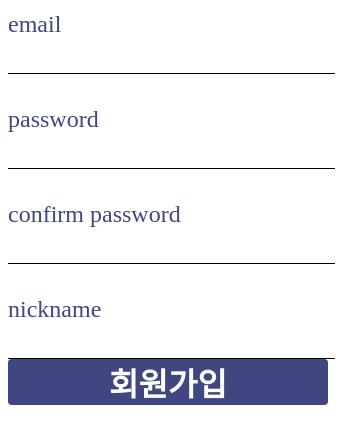
it: Component/Organism/SignupForm › 비밀번호확인과 다를 경우
Type "qkrdmstlr3@naver.com" into the field labelled "email" at (172, 56), box top-left (8, 38), bottom-right (335, 74)
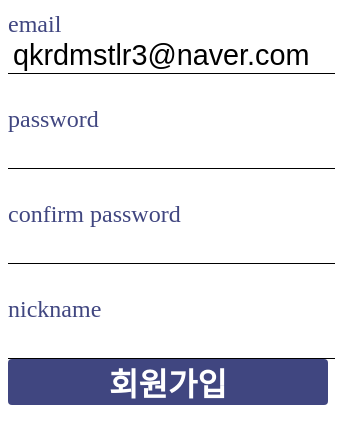
Type "shellboy" into the field labelled "nickname" at (172, 341), box top-left (8, 323), bottom-right (335, 359)
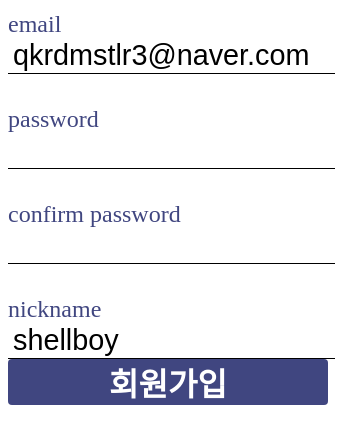
Type "1q2w3e4r" into the password field labelled "password" at (172, 151), box top-left (8, 133), bottom-right (335, 169)
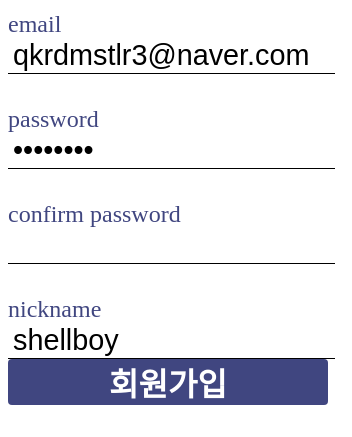
Type "4r3e2w1q" into the password field named "confirmPassword" at (172, 246), box top-left (8, 228), bottom-right (335, 264)
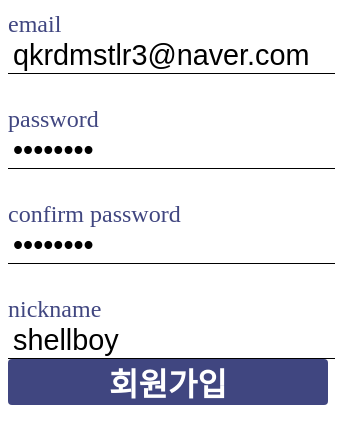
Click the button "회원가입" at (168, 382), box top-left (8, 359), bottom-right (328, 405)
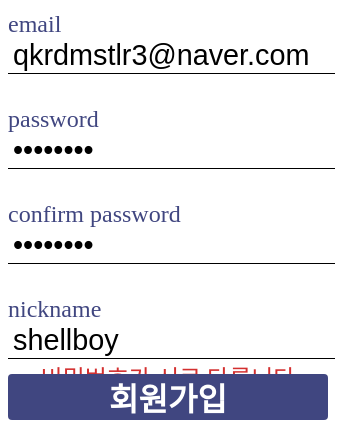
Expected: the text "비밀번호가 서로 다릅니다" is shown, top-left (40, 359), bottom-right (295, 374)
